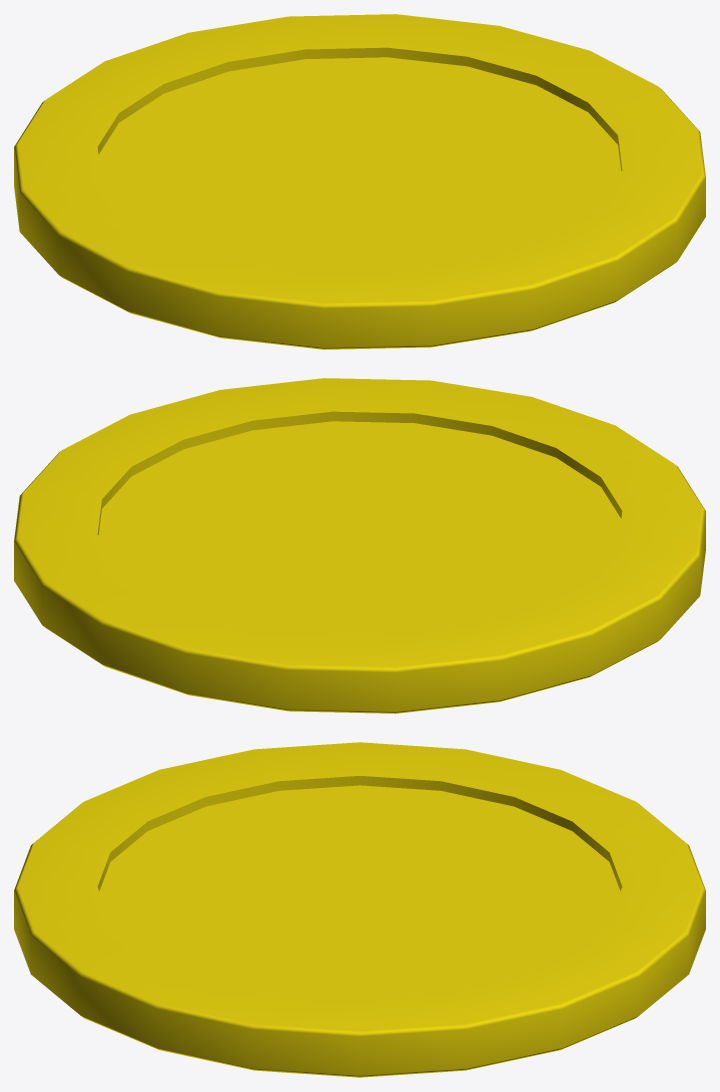
Rendered from CoinModel.fbx.
3 views of the same model, one above another, from view 1: azimuth 30°, elevation 25°; view 2: azimuth 150°, elevation 25°; view 3: azimuth 270°, elevation 25° (orthographic).
Parts seen in each view (by area): view 1: pCylinder1; view 2: pCylinder1; view 3: pCylinder1.
Part boxes in pixels (box(x1,y1,x2,y2)): pCylinder1: box(14, 14, 705, 349); pCylinder1: box(14, 378, 705, 713); pCylinder1: box(14, 742, 705, 1077).
Bounding box in the file's own units: 1.99 × 0.1486 × 1.99.
1 material, 1 textured.
